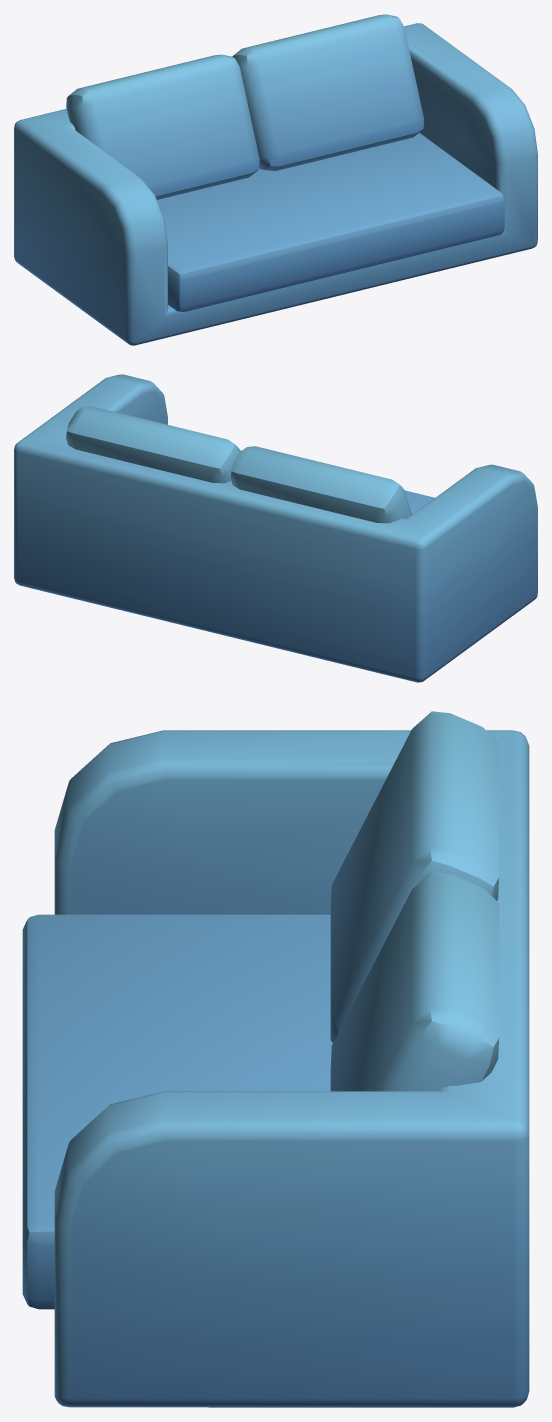
Rendered from kay-sofa-simples.gltf.
3 views of the same model, one above another, from view 1: azimuth 30°, elevation 25°; view 2: azimuth 150°, elevation 25°; view 3: azimuth 270°, elevation 25° (orthographic). The views are drawn at different scales.
Visible parts, largest first — view 1: couch; view 2: couch; view 3: couch.
Part boxes in pixels (x1,y1,x2,y2): couch: (14, 14, 537, 345); couch: (14, 374, 537, 682); couch: (22, 711, 529, 1407).
Bounding box in the file's own units: 1.95 × 0.7956 × 1.04.
1 material, 1 textured.
